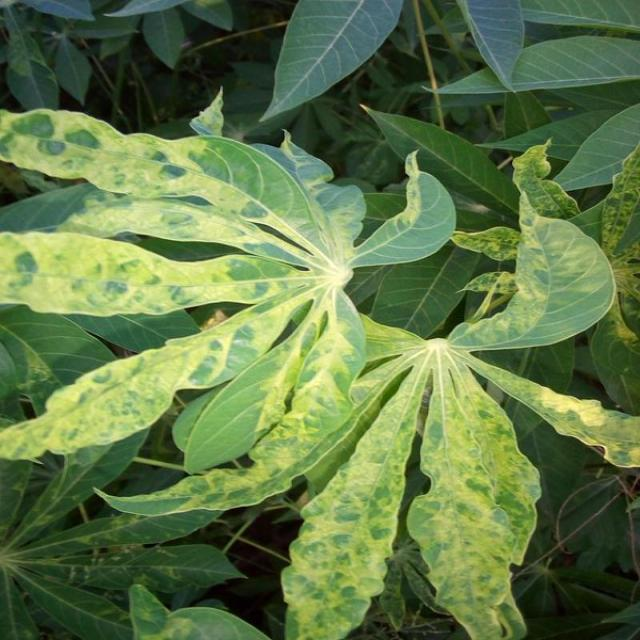cassava leaf: (1, 97, 635, 638)
